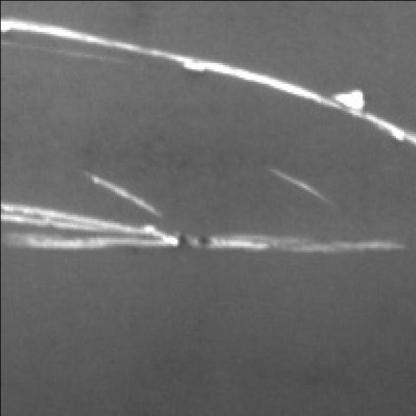scratches: (0, 12, 412, 142), (2, 164, 264, 248), (0, 222, 402, 254)
